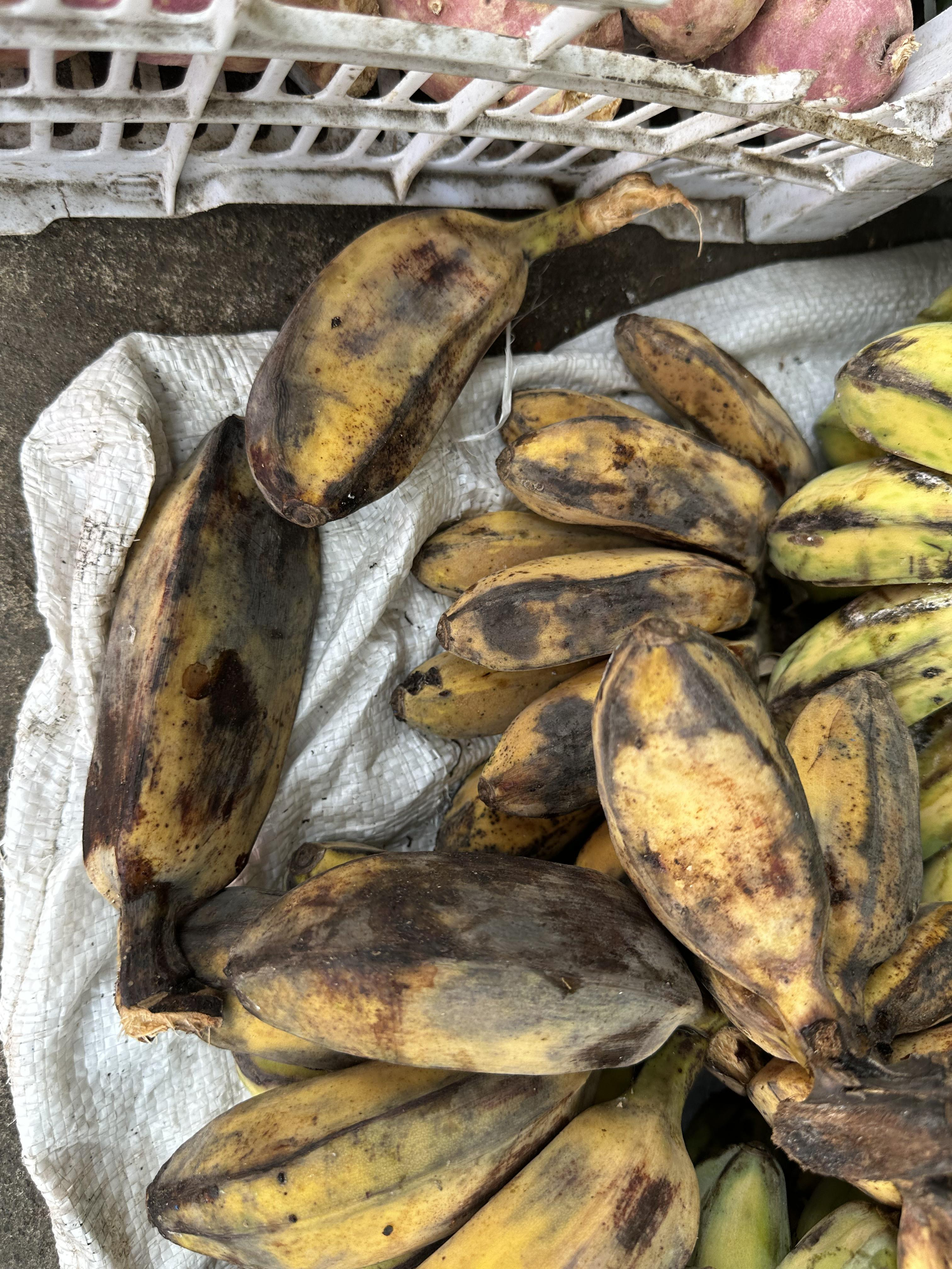ripe: (392, 314, 815, 876), (147, 852, 704, 1269), (593, 617, 952, 1060)
underripe: (768, 288, 952, 903)
